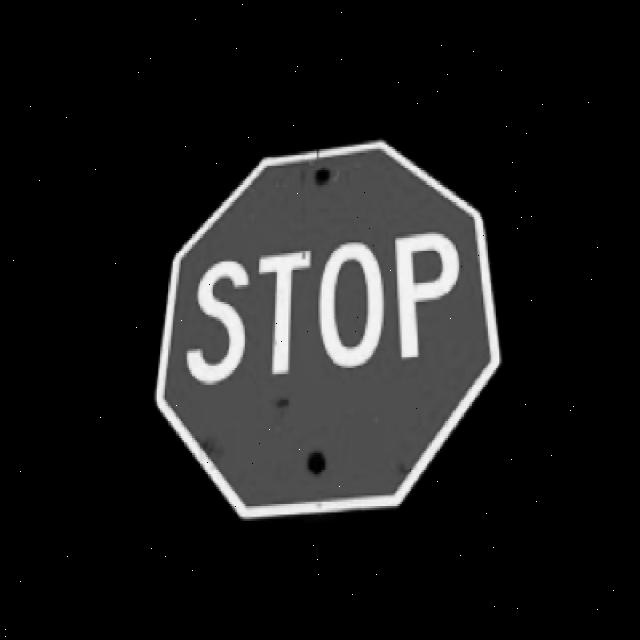Stop-signs: (157, 143, 499, 517)
